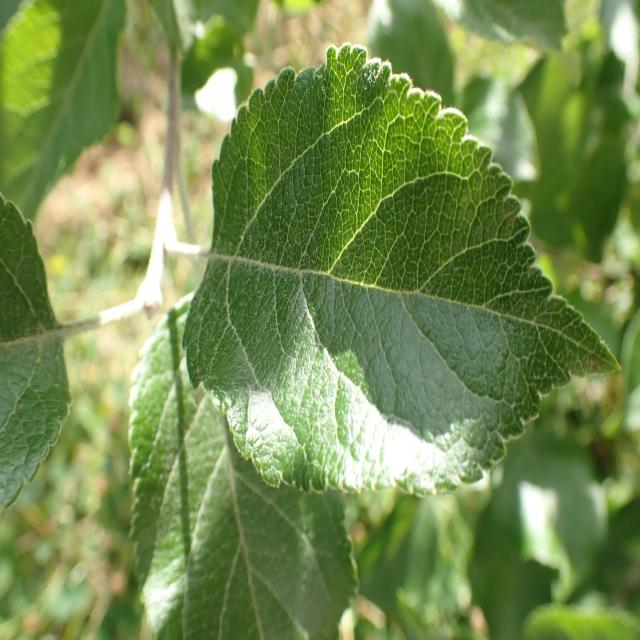healthy: (180, 41, 622, 498), (127, 292, 359, 640), (0, 192, 72, 510)
